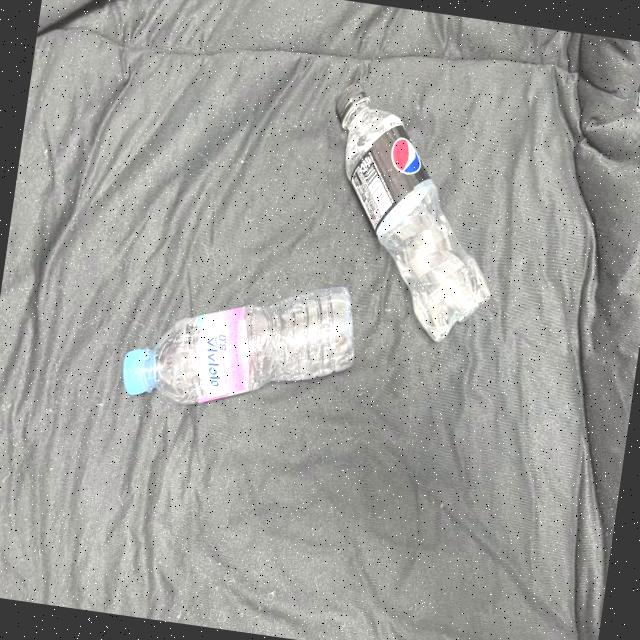bottle: (312, 62, 503, 364), (106, 276, 366, 424)
cap: (114, 341, 158, 402), (327, 76, 372, 130)
label: (168, 292, 263, 422), (343, 117, 440, 233)
